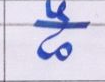ai_matra: (45, 1, 73, 23)
